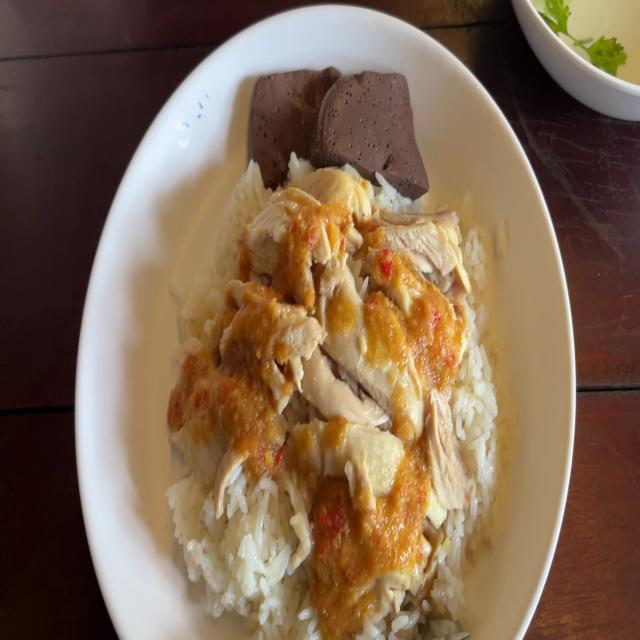boiled_chicken: (205, 196, 430, 560)
boiled_chicken_blood_jelly: (320, 66, 430, 196), (231, 64, 332, 176)
chicken_rice: (148, 68, 512, 640)
